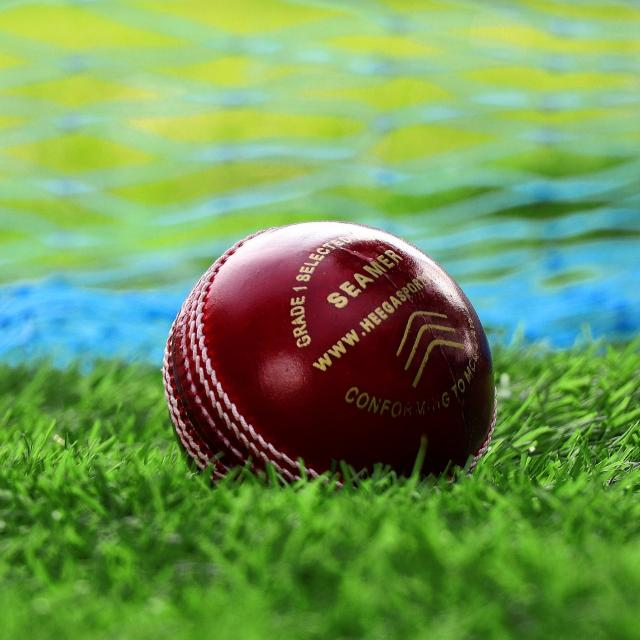ball: (162, 218, 498, 510)
